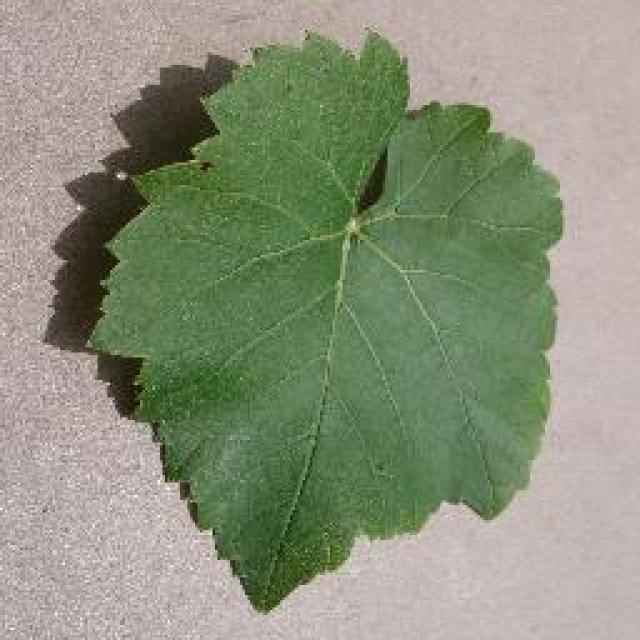Grape___healthy: (78, 17, 569, 624)
